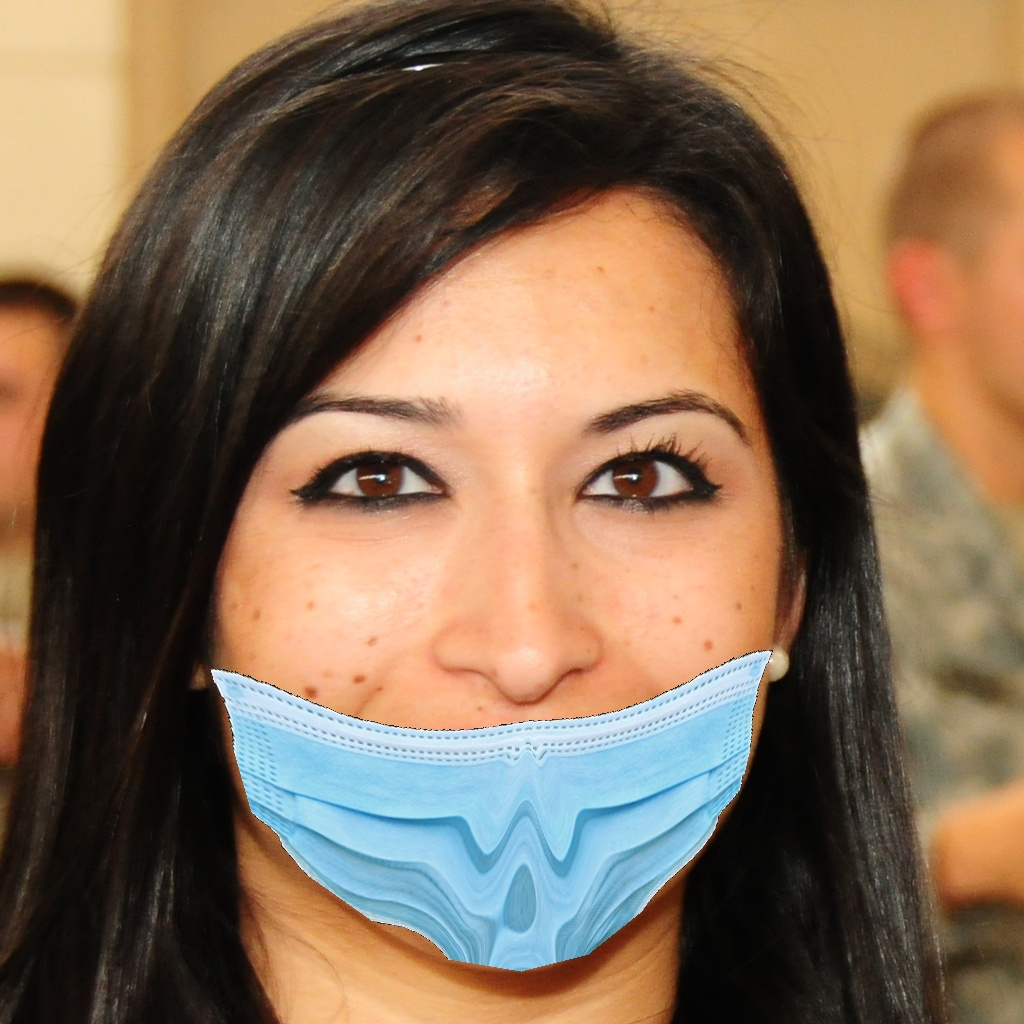mascarilla_mal_puesta: (204, 423, 759, 973)
